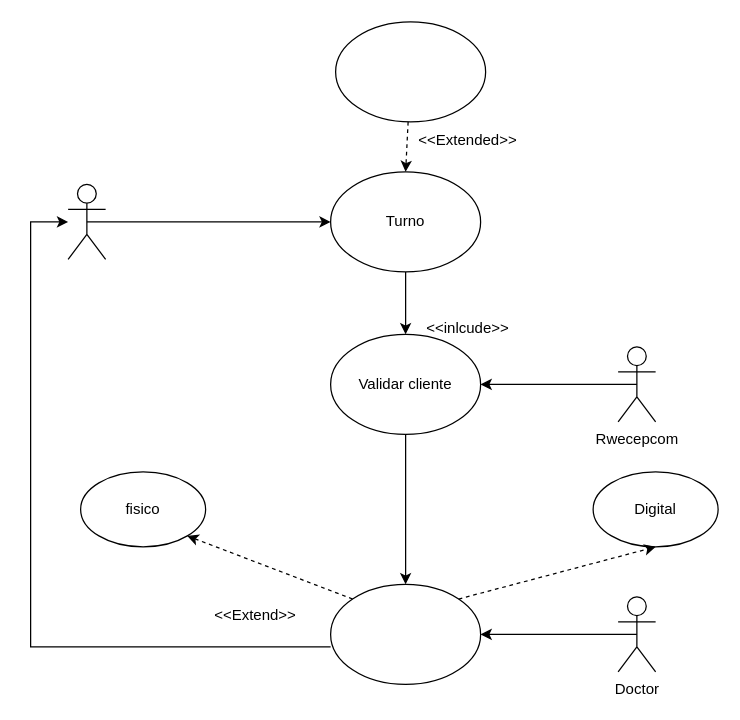
Some shapes in this 740 by 720 pixel diagram are drawn without their labels. The shapes that lost their labels are listed below. From the top down, each one's centre as x and y in pixels, then its label:
the point at 410,71: web
the point at 86,221: Paciente
the point at 405,633: Scan
